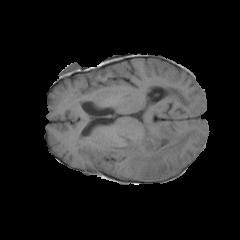glioma: (112, 122, 196, 179)
